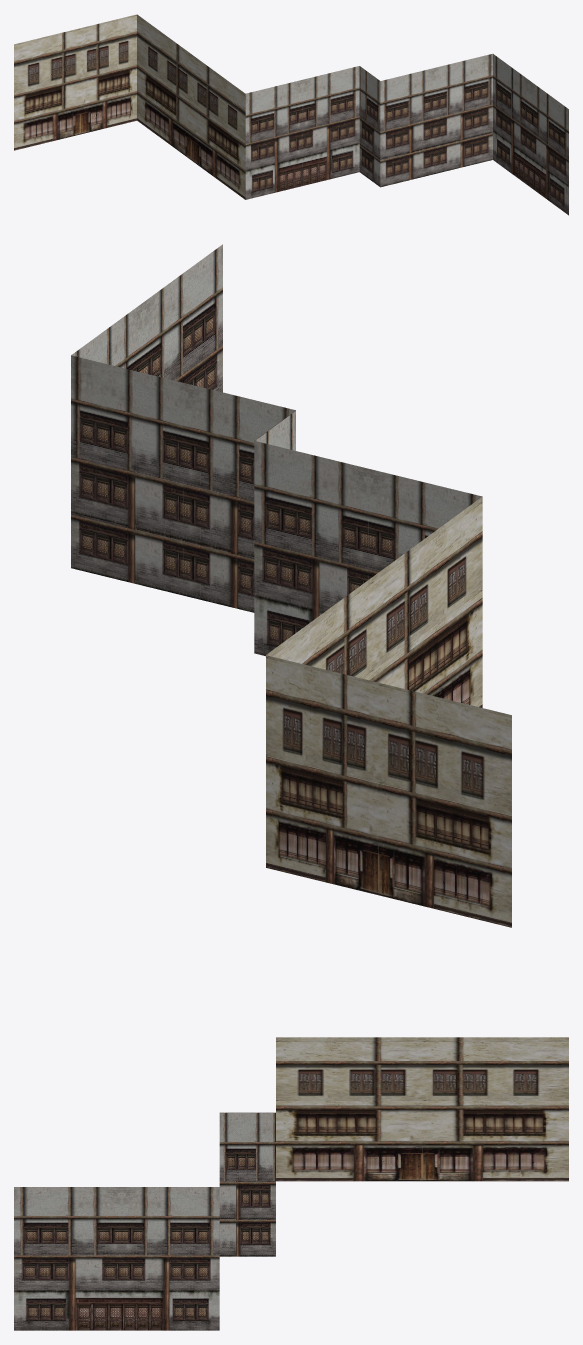
3 renders of one model, top to bottom at view 1: azimuth 30°, elevation 25°; view 2: azimuth 150°, elevation 25°; view 3: azimuth 270°, elevation 25°, orthographic. The views are drawn at different scales.
Parts seen in each view (by area): view 1: Box84; view 2: Box84; view 3: Box84.
Boxes of the visible parts, x1=… form: Box84: x1=14, y1=14, x2=568, y2=215; Box84: x1=71, y1=244, x2=511, y2=927; Box84: x1=14, y1=1037, x2=568, y2=1330.
Bounding box in the file's own units: 930 × 270 × 945.
